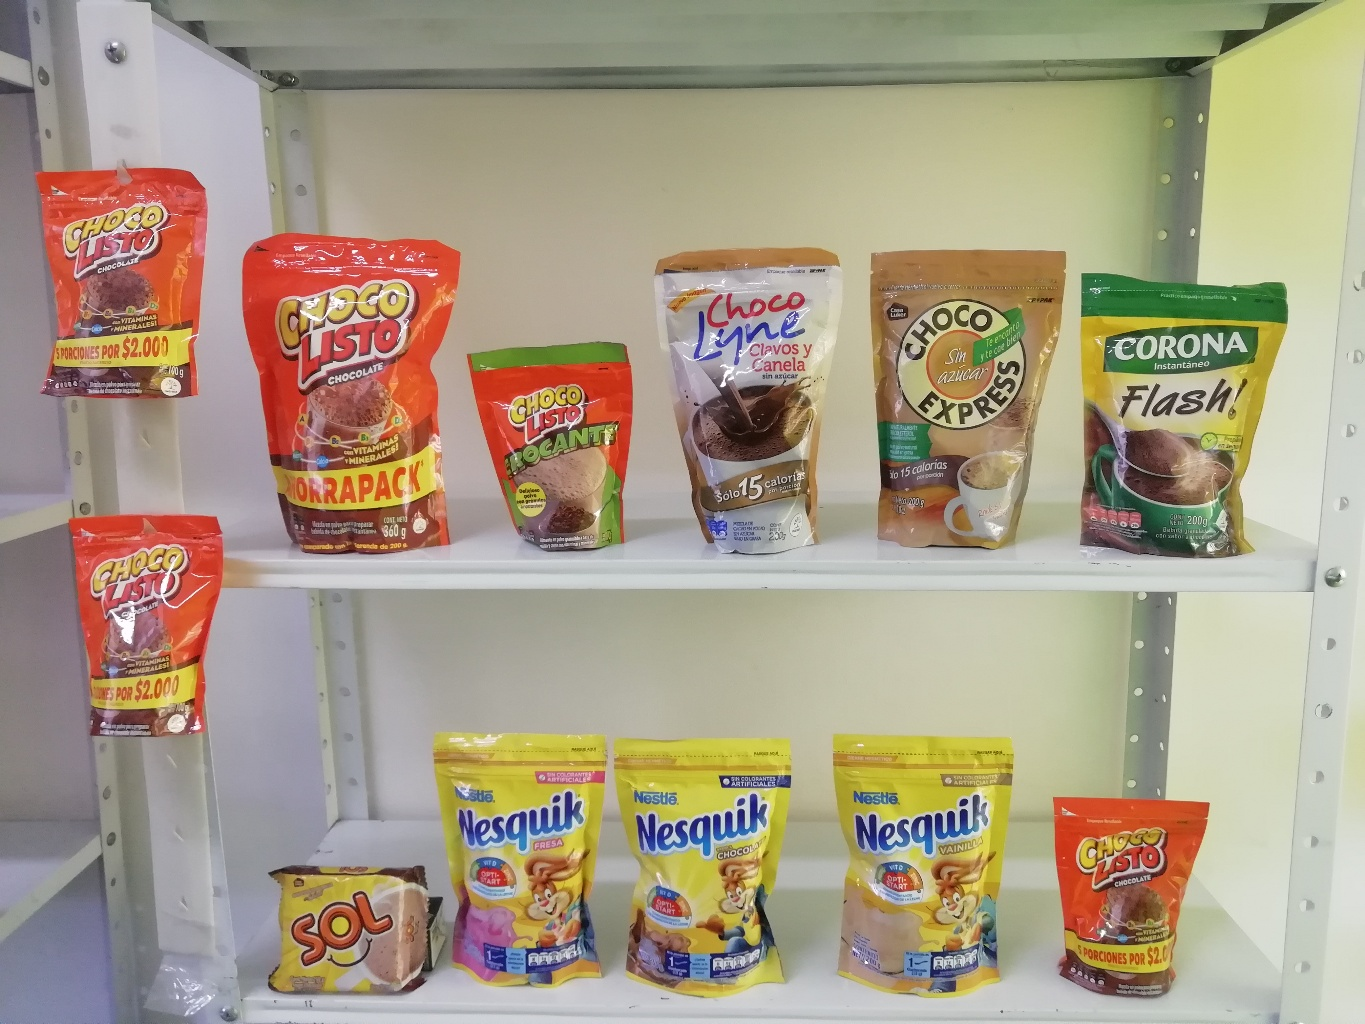COL0170102DYP10000: (465, 343, 638, 552)
COL0170103DYP10000: (31, 166, 197, 401)
COL0170103DYP36000: (239, 227, 465, 554)
COL0170303DYP20000: (615, 739, 799, 1000)
COL0170305DYP20000: (428, 730, 620, 990)
COL0170306DYP20000: (831, 730, 1016, 1001)
